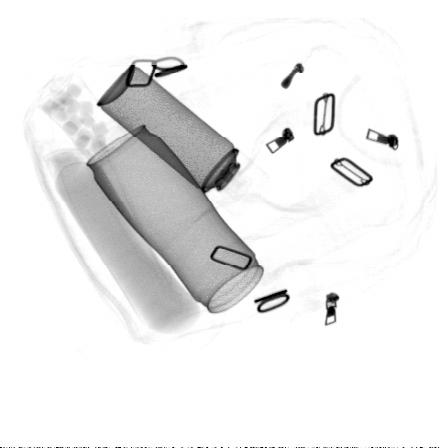Sprayer: (95, 62, 272, 217)
